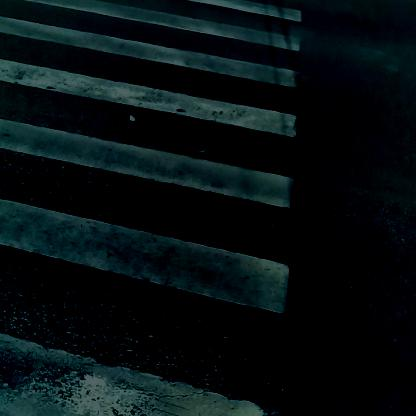crosswalk: (2, 2, 319, 416)
